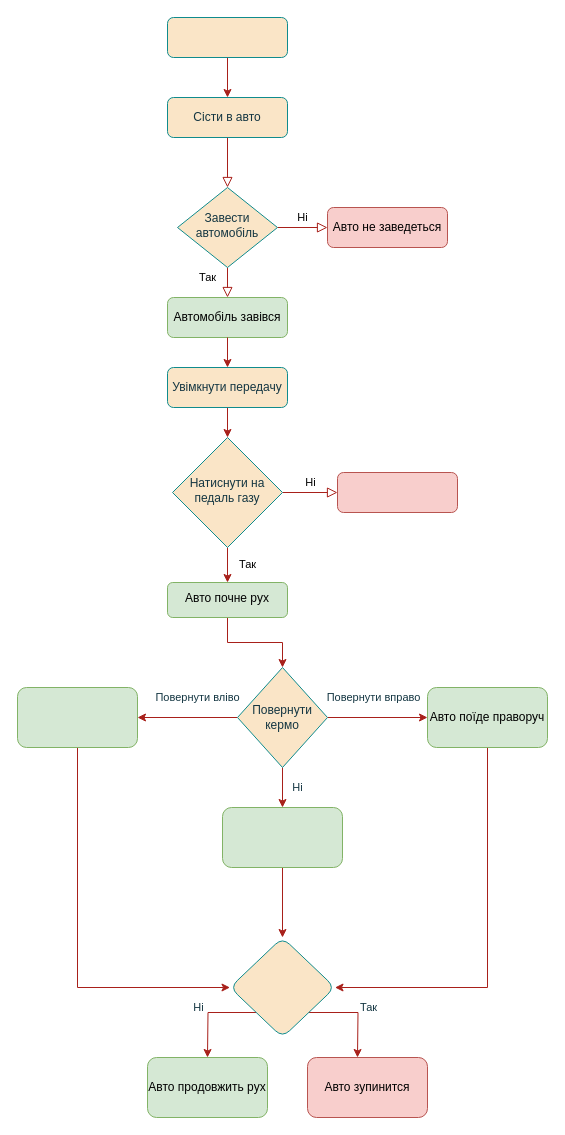
Image size: 565x1135. Some labels were removed from this diagram. Here are the shapes that lost their labels. From the top down, the centre of each, then its label:
At point 227,37: "Управління автомобілем".
At point 397,492: "Авто не рухатиметься".
At point 77,717: "Авто поїде ліворуч".
At point 282,837: "Авто поїде прямо".
At point 282,987: "Натиснути на гальма".
